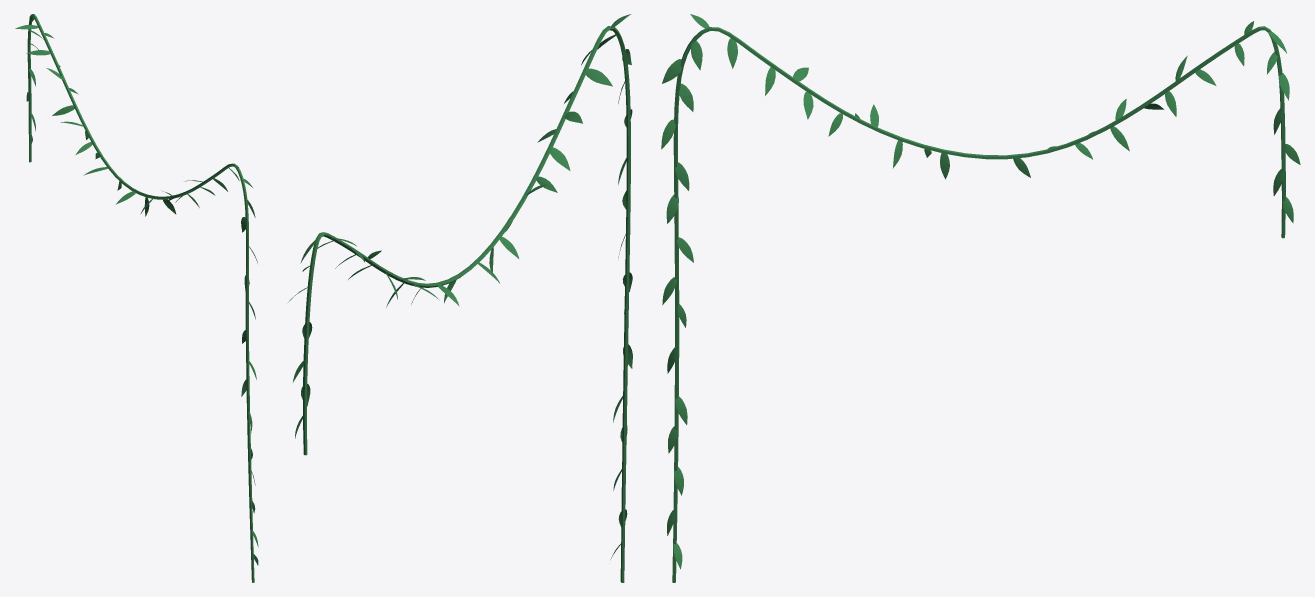
File: vine_hori_F_scanden.fbx
The picture shows the model from 3 angles, left to right: view 1: azimuth 30°, elevation 25°; view 2: azimuth 150°, elevation 25°; view 3: azimuth 270°, elevation 25°; orthographic projection. The views are drawn at different scales.
Visible parts, largest first — view 1: vine_hori_F_scanden_root; view 2: vine_hori_F_scanden_root; view 3: vine_hori_F_scanden_root.
Boxes of the visible parts, x1,y1,x2,y2 form: vine_hori_F_scanden_root: [27, 14, 254, 582]; vine_hori_F_scanden_root: [303, 26, 630, 582]; vine_hori_F_scanden_root: [672, 26, 1285, 582].
Size of the model in its own units: 45.94 by 456 by 471.
